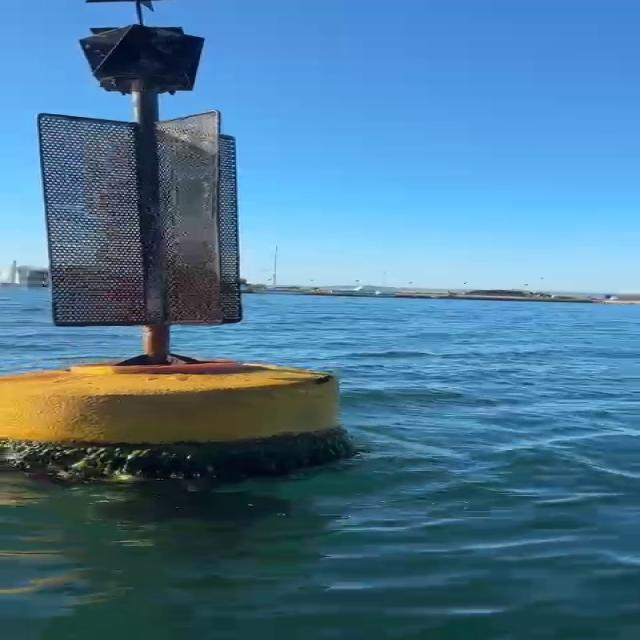marque: (1, 1, 381, 476)
